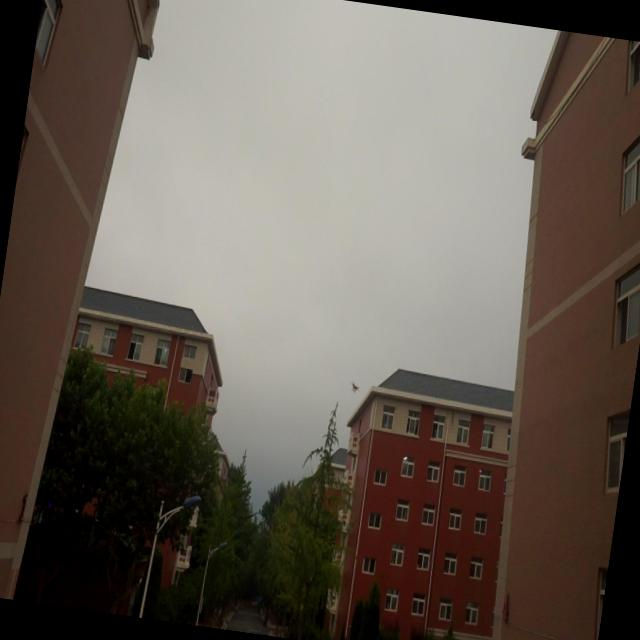drone: (348, 376, 362, 398)
